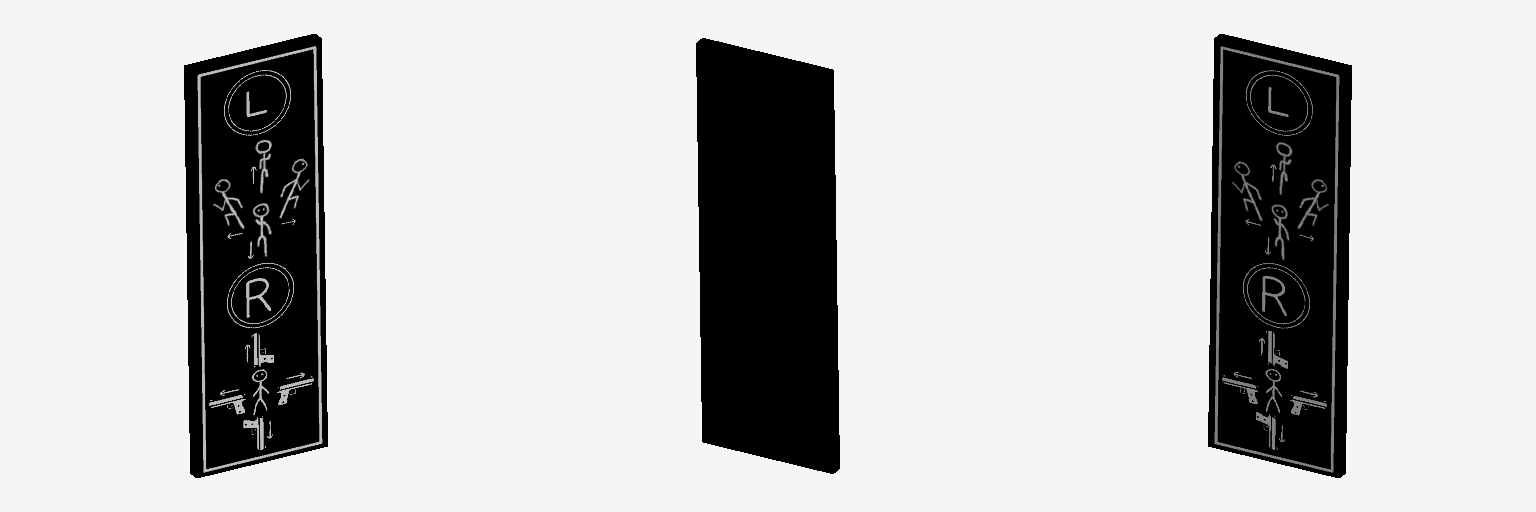
The picture shows the model from 3 angles: view 1: azimuth 30°, elevation 25°; view 2: azimuth 150°, elevation 25°; view 3: azimuth 330°, elevation 25°; orthographic projection.
Visible parts, largest first — view 1: Cube.001; view 2: Cube.001; view 3: Cube.001.
Boxes of the visible parts, x1=… form: Cube.001: x1=184, y1=34, x2=327, y2=477; Cube.001: x1=696, y1=38, x2=839, y2=473; Cube.001: x1=1208, y1=34, x2=1351, y2=477.
Size of the model in its own units: 6.44 by 18.97 by 1.11.
Materials: 1 (1 with a texture image).